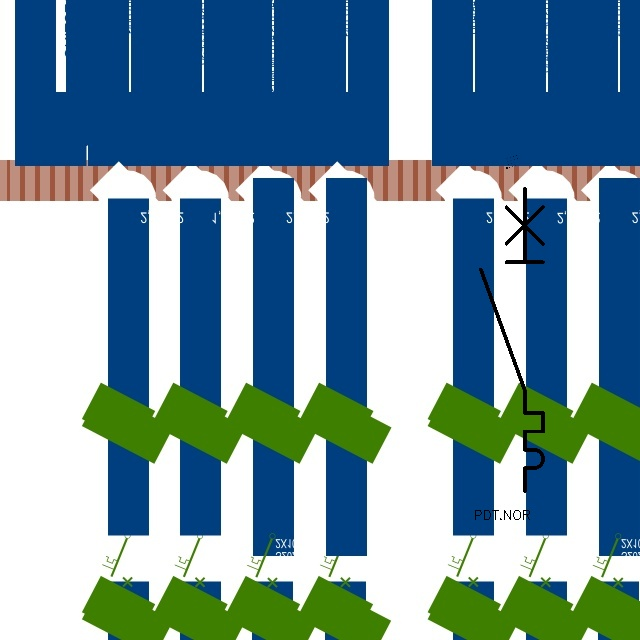interruptor_termomagnetico: (473, 181, 551, 499)
